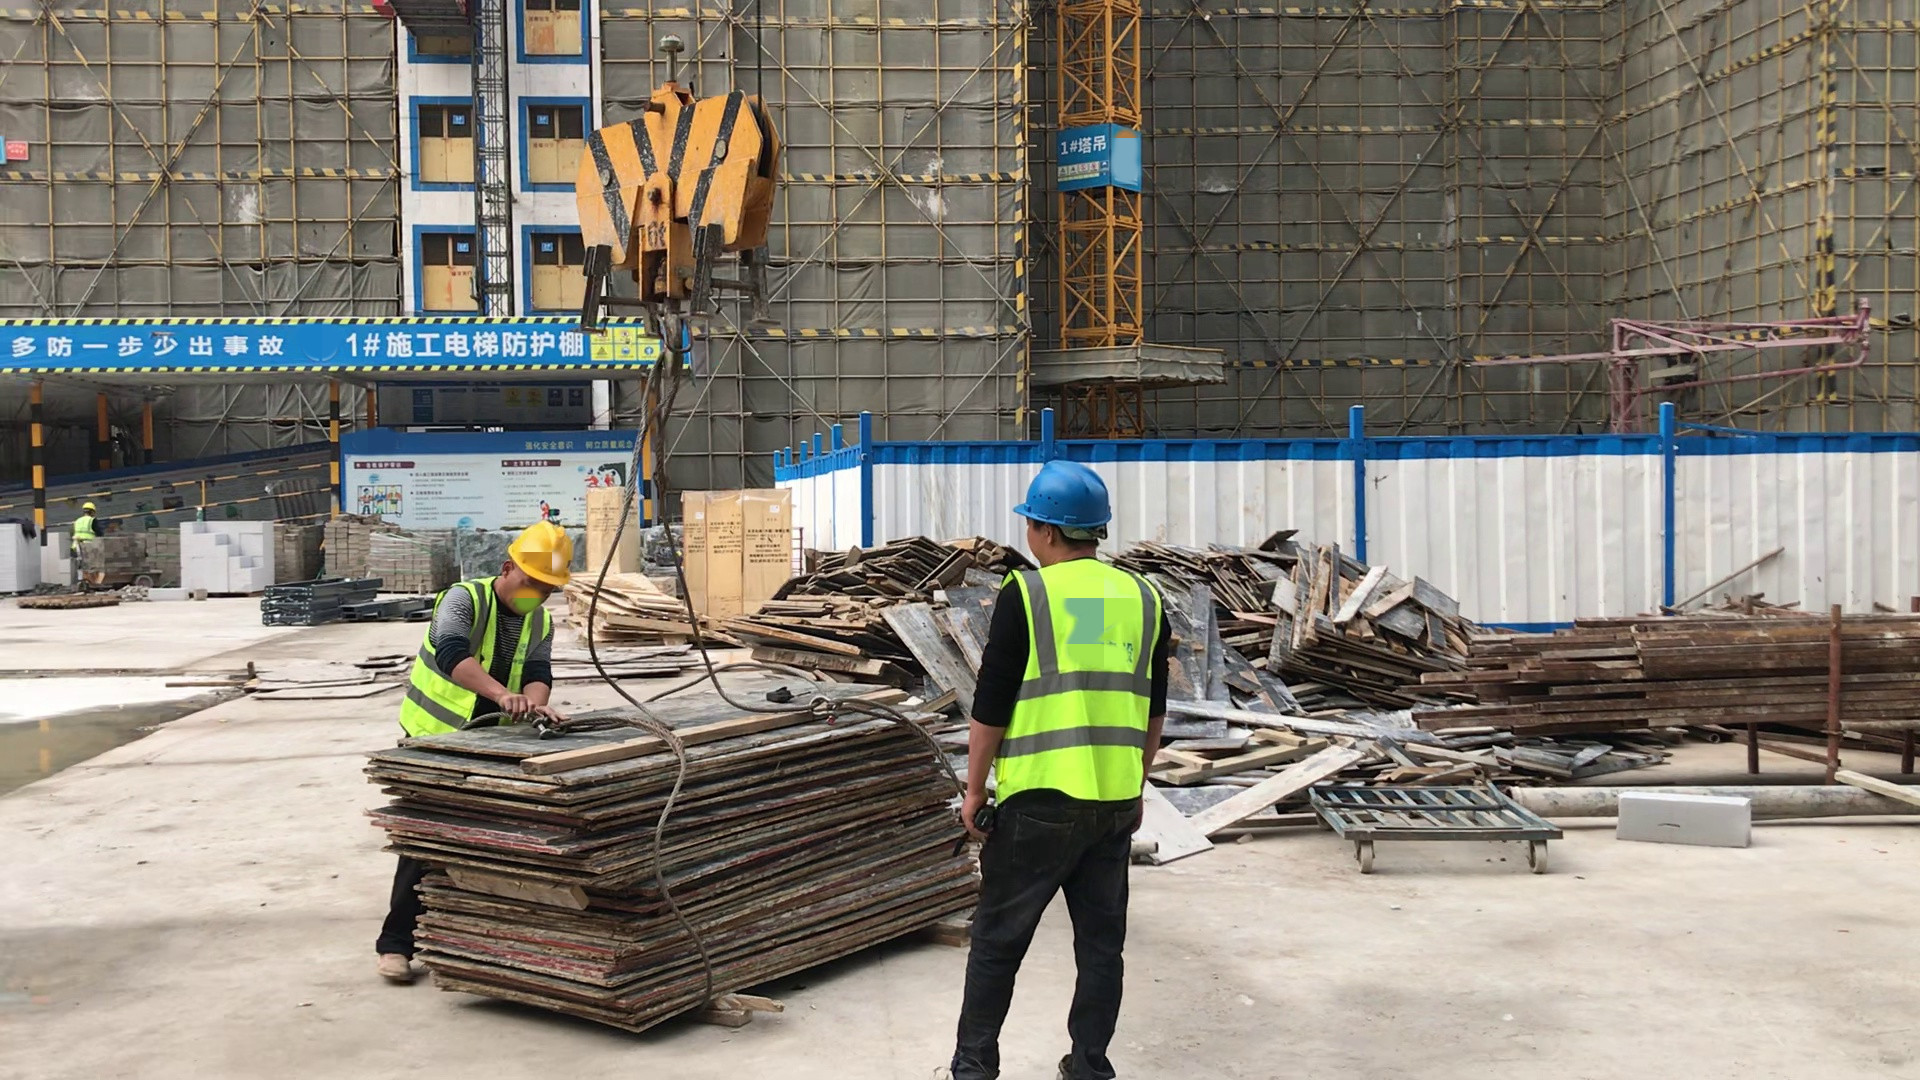board: (366, 688, 974, 1036)
brick: (178, 519, 274, 593), (1, 523, 69, 592)
helmet: (1010, 458, 1111, 534), (509, 518, 572, 588), (82, 503, 94, 513)
hook: (566, 83, 780, 377)
person: (932, 454, 1173, 1080), (379, 519, 572, 982), (71, 502, 104, 553)
slogan: (8, 326, 287, 365), (592, 330, 657, 361), (1057, 161, 1109, 183)
vest: (984, 560, 1161, 802), (403, 579, 551, 732), (74, 516, 95, 540)
